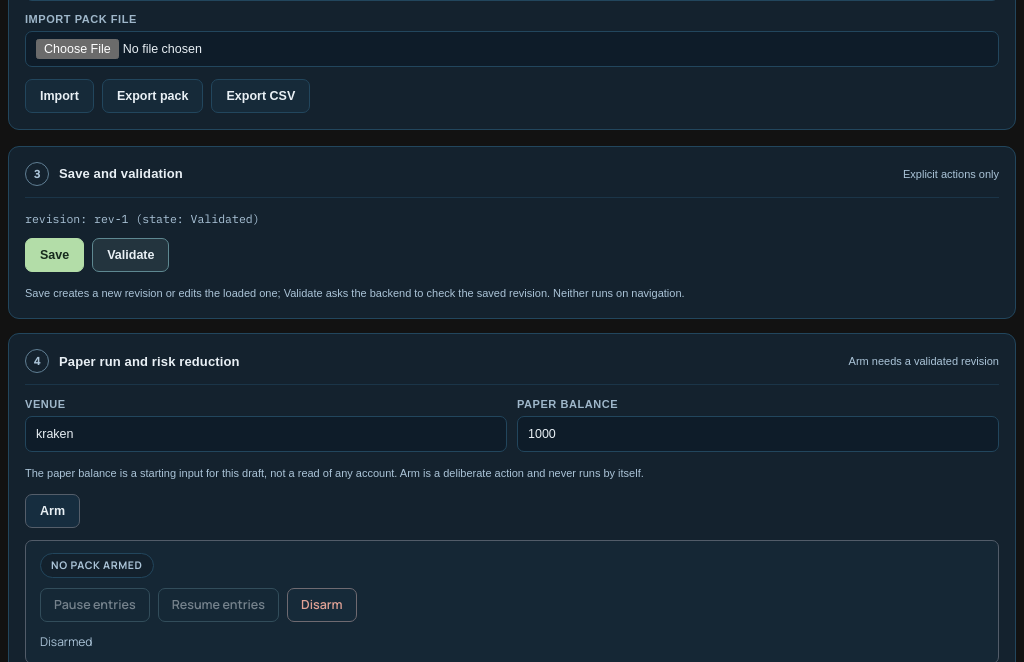
EditorInlineStopControl refreshSignal › Editor's own Arm success enables the inline controls without clicking Refresh status
The width and height of the screenshot is (1024, 662).
(page scrolled)
Expected: the text "No pack armed" is shown, [40,553,154,578]
Click the button "Arm": (52, 511) [25,494,80,528]
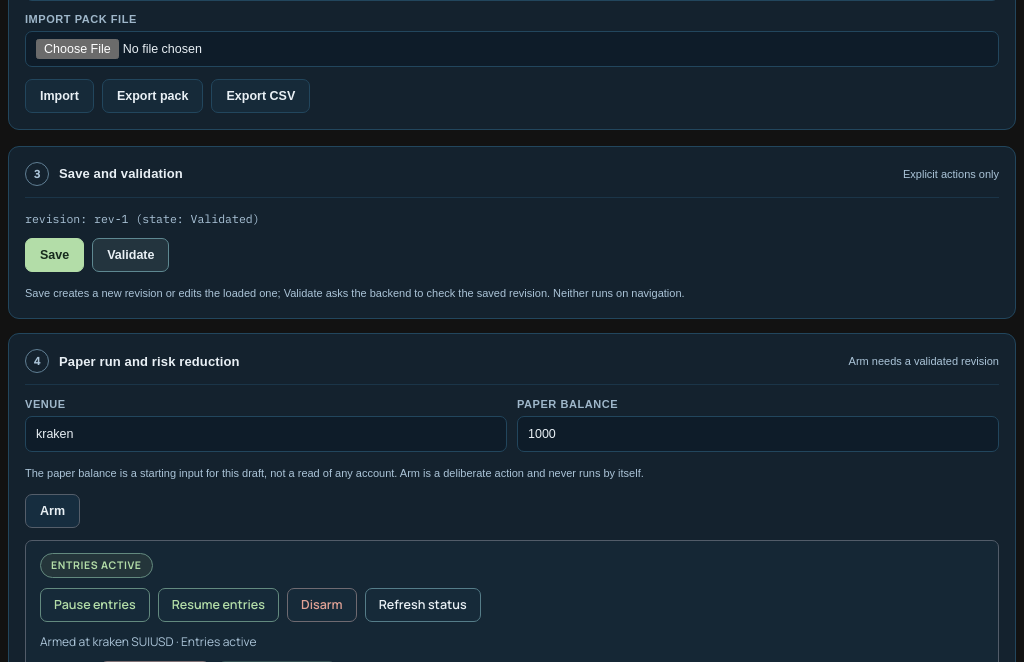
Expected: the button "Disarm" is enabled, [287,588,357,622]
Result: the text with test id "editor-inline-stop-entries" reads "Entries active" at [51,558,142,572]
